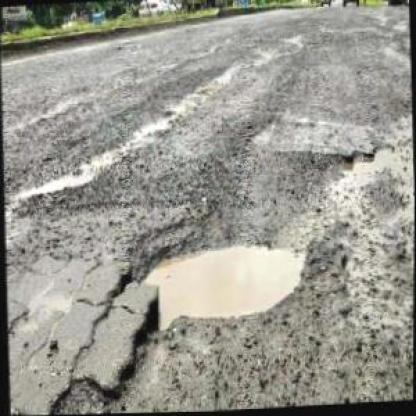pothole: (111, 232, 311, 338)
